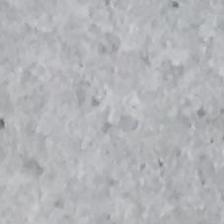Non_Crack: (26, 35, 181, 202)
